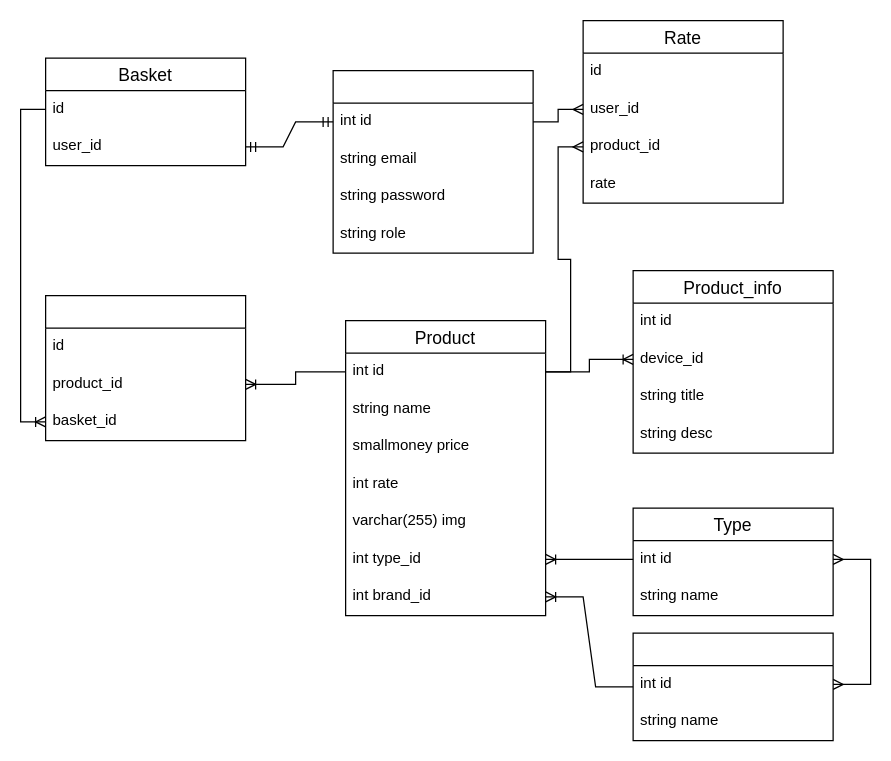
The diagram is 891 pixels wide and 761 high, and some of its shapes have lost their labels. The box of each missing label's shape, as (x1, y1, x2, y2) in pixels:
Basket_product: (44, 294, 246, 441)
Brand: (632, 632, 833, 741)
User: (332, 69, 533, 253)
